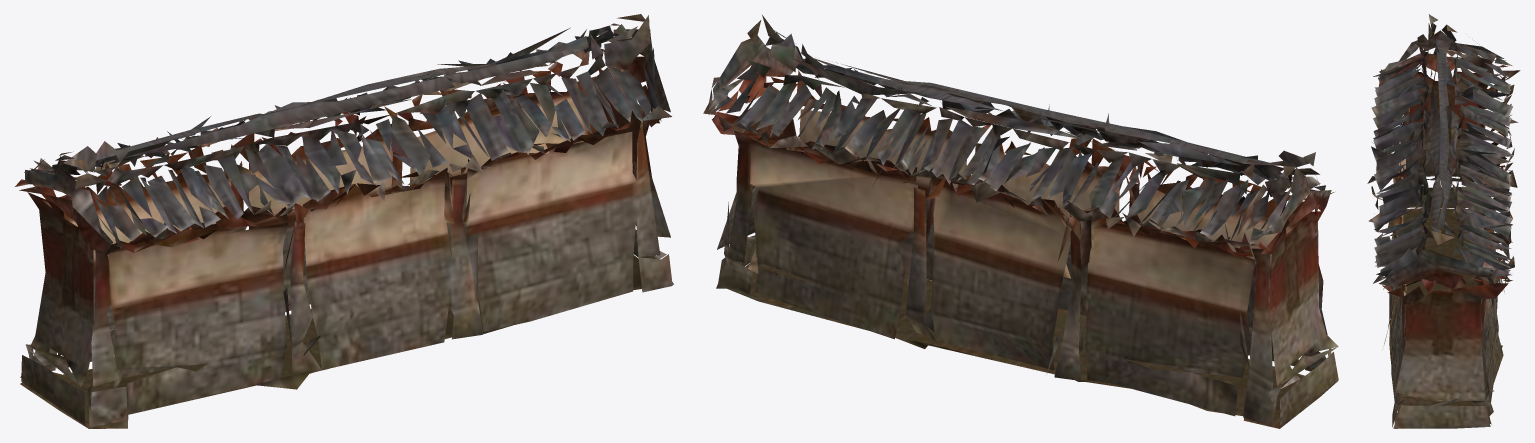
Rendered from muro_lod2.glb.
The picture shows the model from 3 angles, left to right: view 1: azimuth 30°, elevation 25°; view 2: azimuth 150°, elevation 25°; view 3: azimuth 270°, elevation 25°; orthographic projection. The views are drawn at different scales.
Parts seen in each view (by area): view 1: muro; view 2: muro; view 3: muro.
Part boxes in pixels (box(x1,y1,x2,y2)): muro: box(15, 14, 673, 428); muro: box(703, 15, 1338, 428); muro: box(1367, 14, 1520, 428).
Bounding box in the file's own units: 5.25 × 2.21 × 1.53.
1 material, 1 textured.
